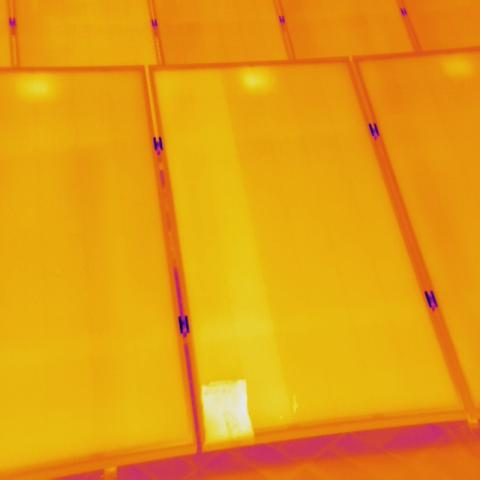fault: (199, 378, 251, 445)
